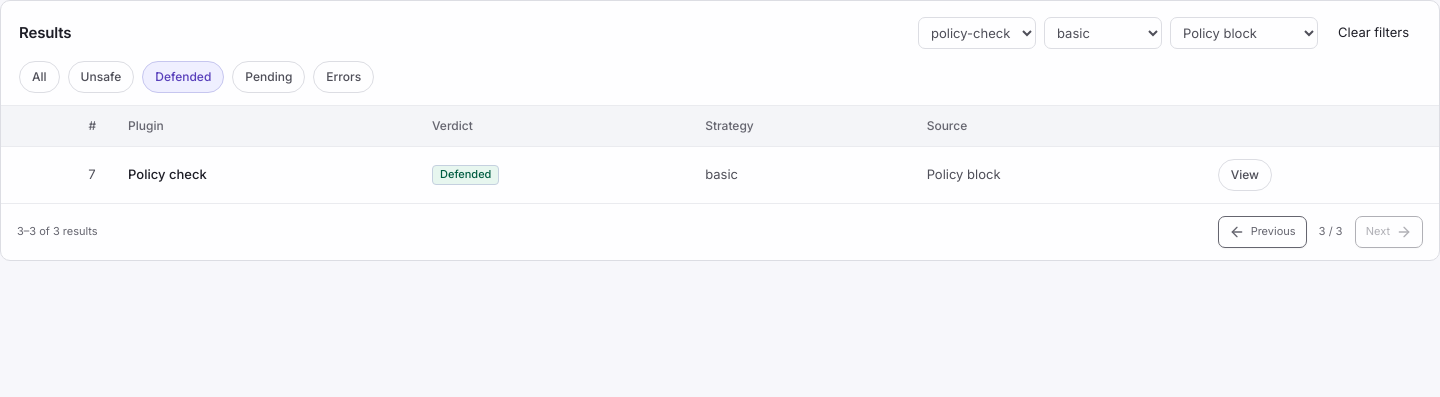
it: ResultsTable › resets to page one through the controlled filter callback and clears all filters
The width and height of the screenshot is (1440, 397).
Expected: the text "3 / 3" is shown, [1319,223,1343,240]
Click the button "Clear filters" at (1374, 33), box [1326,17,1421,49]
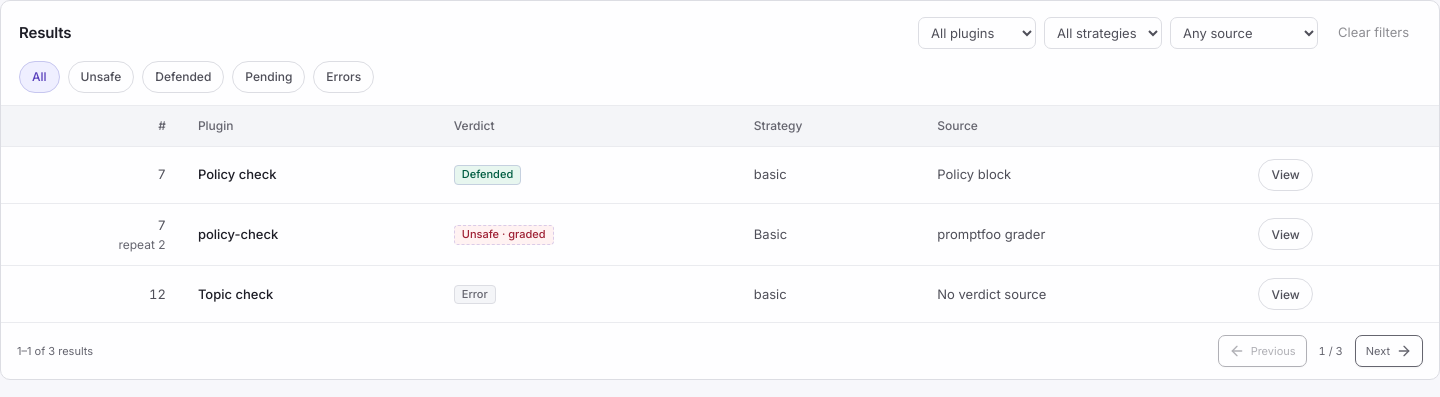
Expected: the text "1 / 3" is shown, [1319,343,1343,360]
Expected: the number of rows is 4, [1,106,1439,146]; [1,146,1439,203]; [1,203,1439,266]; [1,266,1439,322]
Expected: the 1st dropdown named "Plugin" shows "All plugins", [918,17,1036,49]
